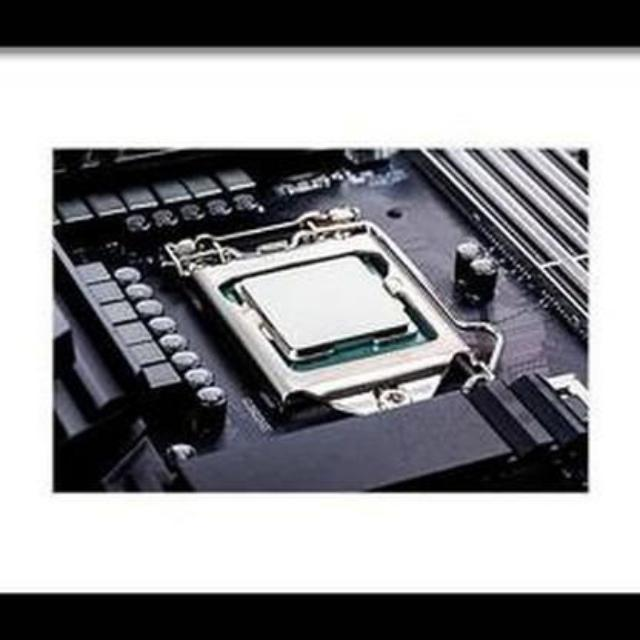CPU: (232, 254, 423, 366)
